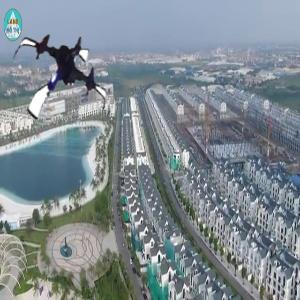drone: (6, 26, 116, 136)
